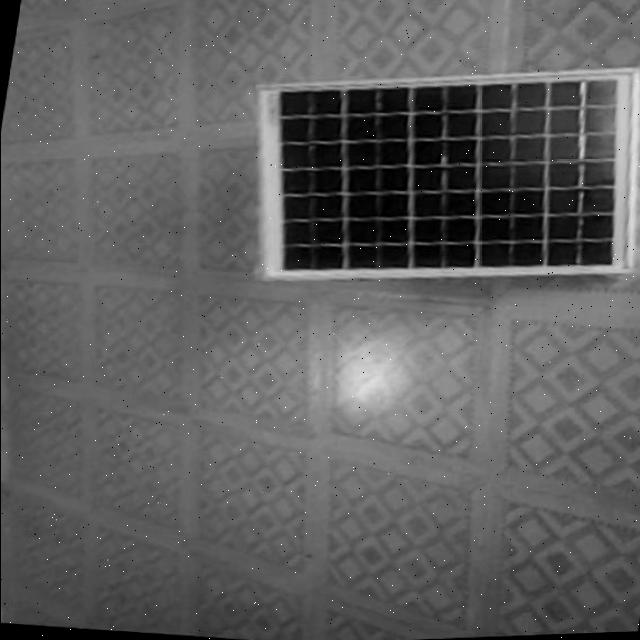Normal Solar Panel: (221, 36, 640, 319)
